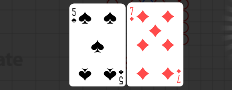5C: (70, 7, 77, 24)
7D: (128, 6, 134, 22)
